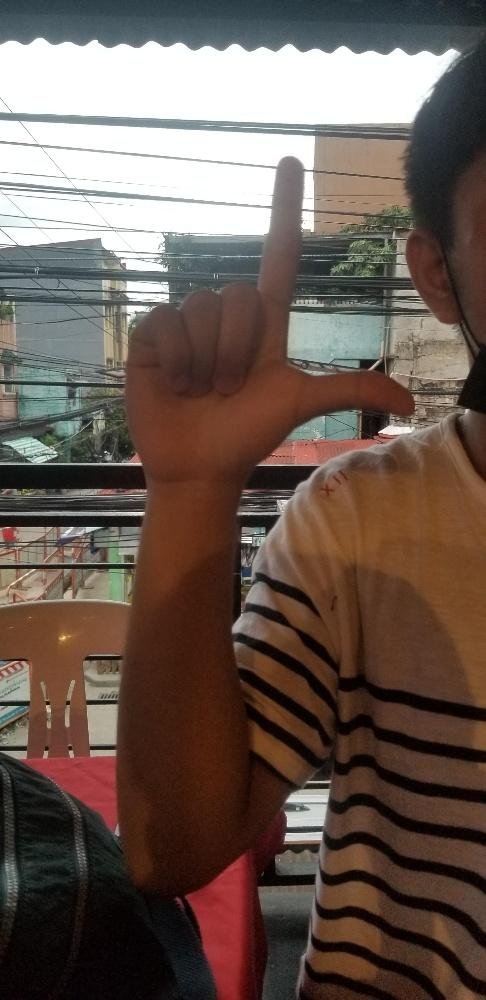l: (122, 153, 415, 480)
